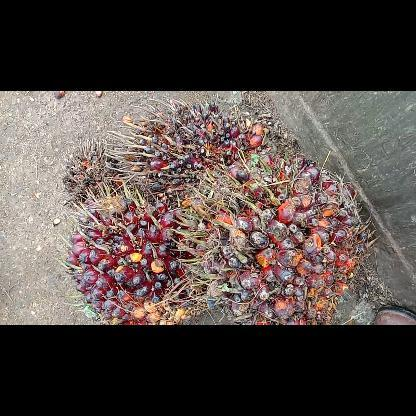TBS abnormal: (103, 97, 263, 210), (60, 136, 130, 214)
TBS masak: (168, 146, 378, 322), (52, 178, 211, 324)
